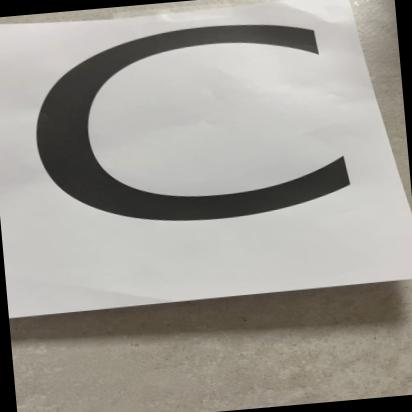seat: (0, 0, 412, 327)
